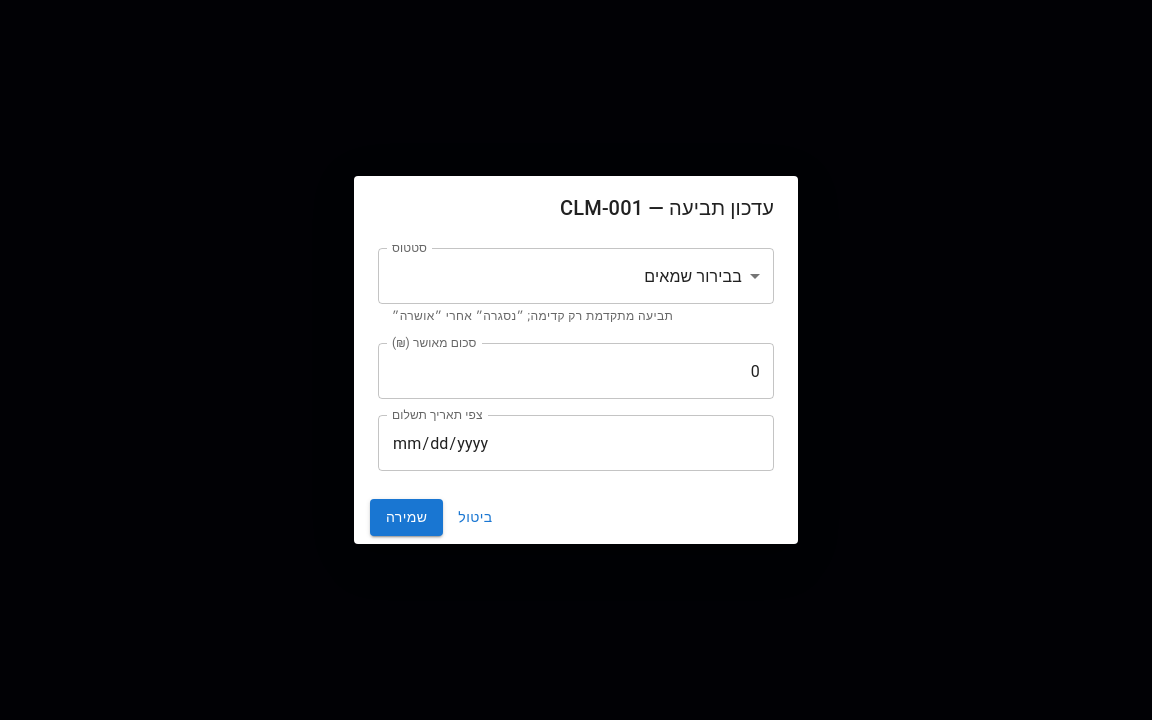
Test: ClaimUpdateDialog › offers only the statuses the claim can move to
Click the dropdown named "סטטוס": point(693, 276) [644,267,742,286]
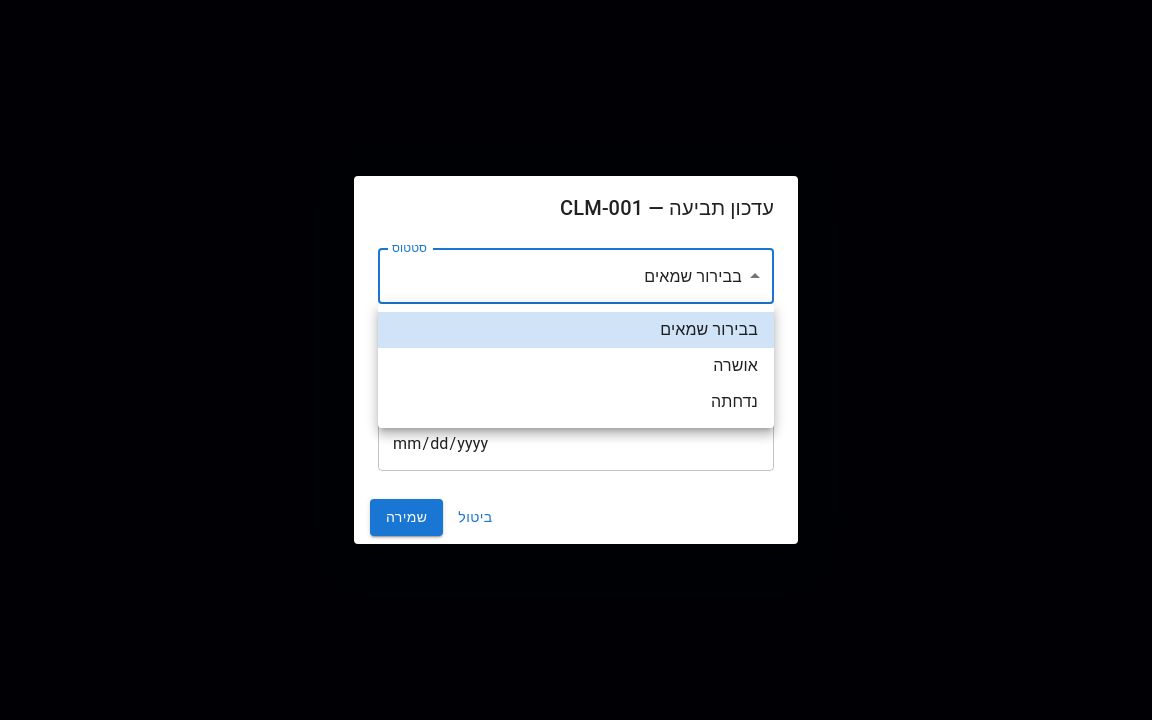
Expected: the options read "בבירור שמאים", "אושרה", "נדחתה", in this order, [378,312,774,348]; [713,356,758,375]; [711,392,758,411]
